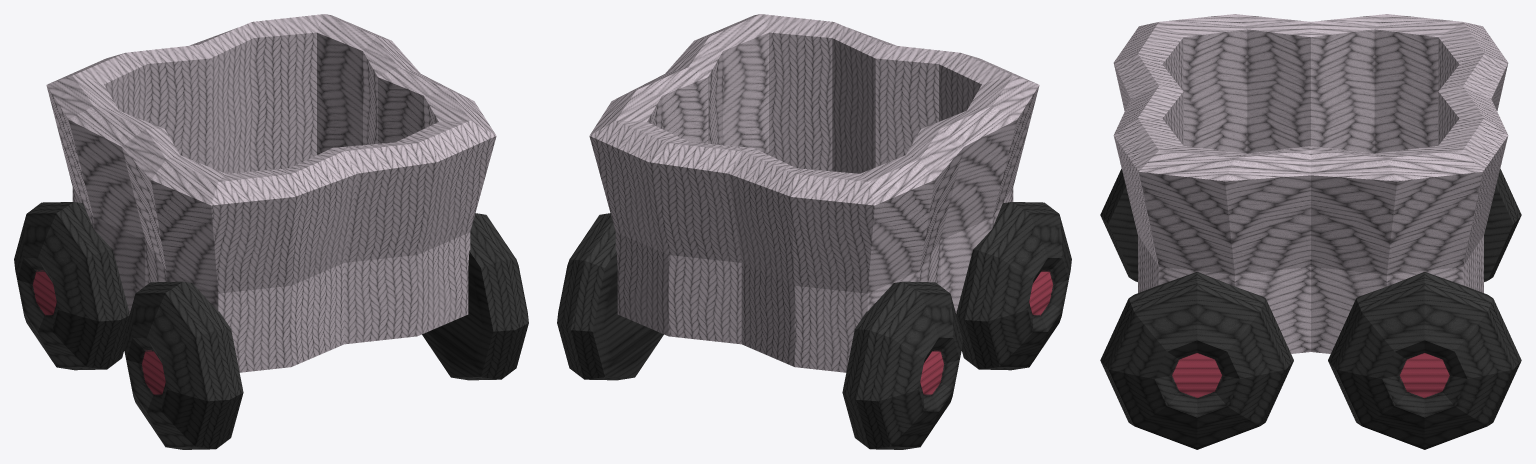
Rendered from Minecart.fbx.
3 renders of one model, left to right at view 1: azimuth 30°, elevation 25°; view 2: azimuth 150°, elevation 25°; view 3: azimuth 270°, elevation 25°, orthographic. The views are drawn at different scales.
Visible parts, largest first — view 1: Minecart, Wheels; view 2: Minecart, Wheels; view 3: Minecart, Wheels.
Part boxes in pixels (x1,y1,x2,y2): Minecart: (46,14,496,372); Wheels: (14,202,528,449); Minecart: (589,14,1039,372); Wheels: (557,202,1071,449); Minecart: (1113,14,1508,353); Wheels: (1100,169,1521,449).
Bounding box in the file's own units: 284 × 210 × 277.
1 material, 1 textured.
